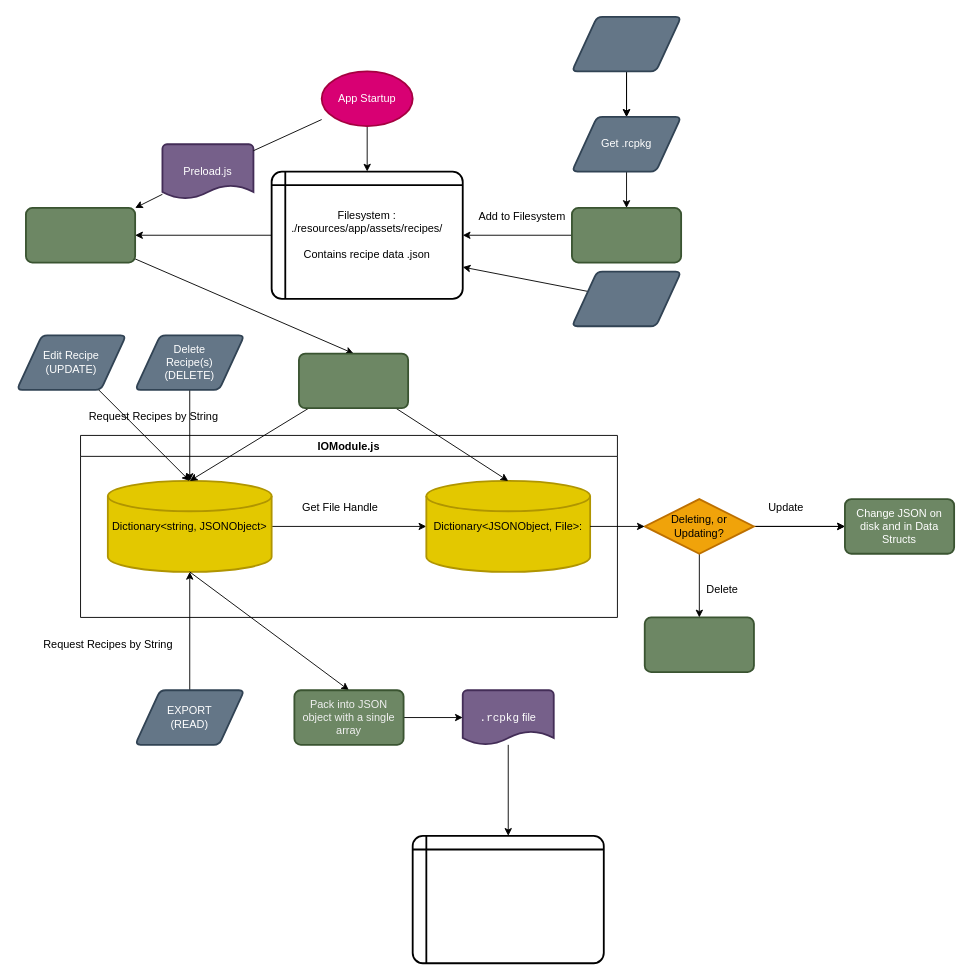
Some shapes in this 970 by 979 pixel diagram are drawn without their labels. The shapes that lost their labels are listed below. From the top down, each one's centre as x and y in pixels, then its label:
At point (626, 43): "IMPORT (CREATE/UPDATE)".
At point (80, 235): "Load All/New JSON files into recipe cards".
At point (626, 235): "Unpack to JSON files".
At point (626, 298): "New Recipe (CREATE)".
At point (353, 380): "Create/Update Dictionaries".
At point (698, 644): "Delete Element and File from Disk".
At point (507, 899): "Filesystem : ~/Downloads/ Default export destination for .rcpkg files".
